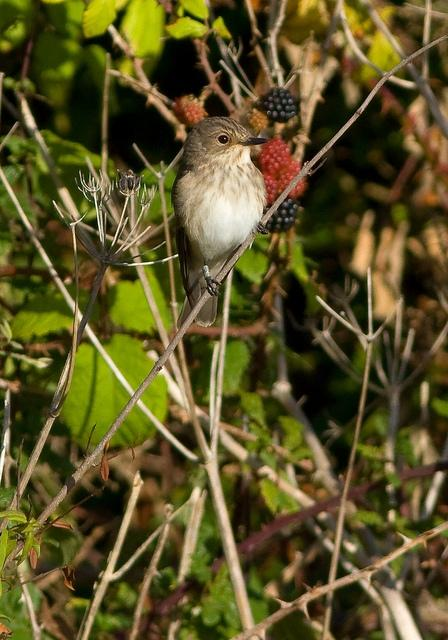blackberry: (262, 194, 298, 234), (262, 87, 296, 121)
